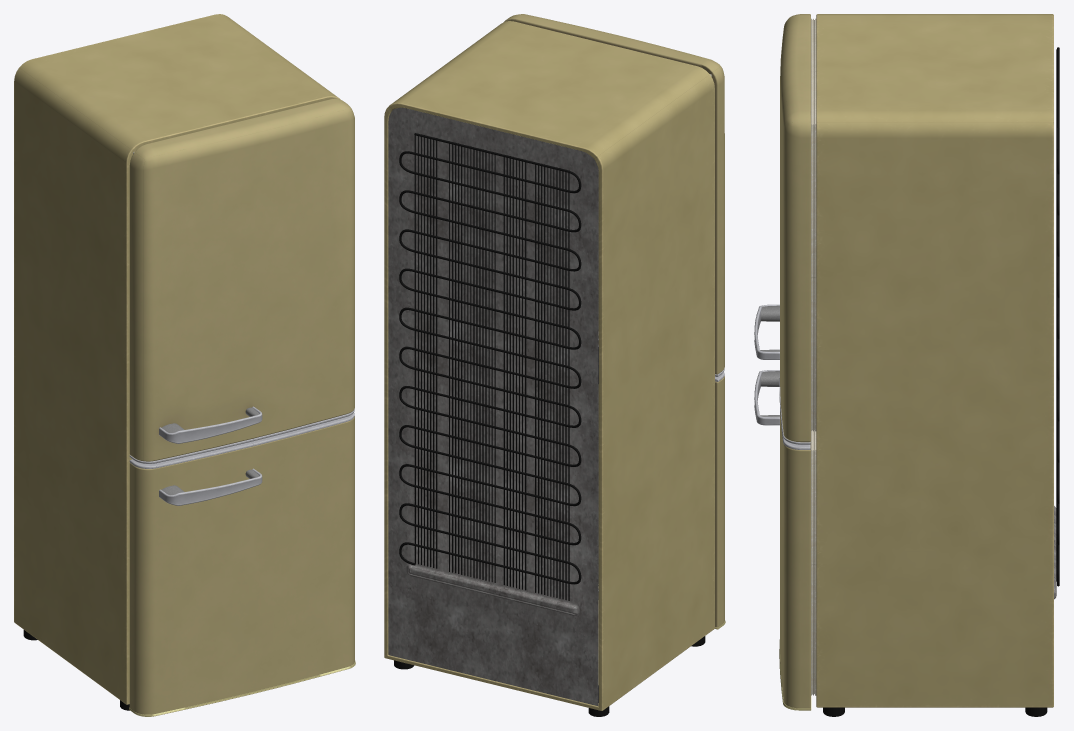
The model's file is fridge.fbx.
3 views of the same model, side by side, from view 1: azimuth 30°, elevation 25°; view 2: azimuth 150°, elevation 25°; view 3: azimuth 270°, elevation 25° (orthographic). The views are drawn at different scales.
Parts seen in each view (by area): view 1: Cube; view 2: Cube; view 3: Cube.
Boxes of the visible parts, x1,y1,x2,y2 form: Cube: (14, 14, 355, 716); Cube: (384, 14, 725, 716); Cube: (754, 14, 1059, 716).
Size of the model in its own units: 75.75 by 188 by 86.67.
